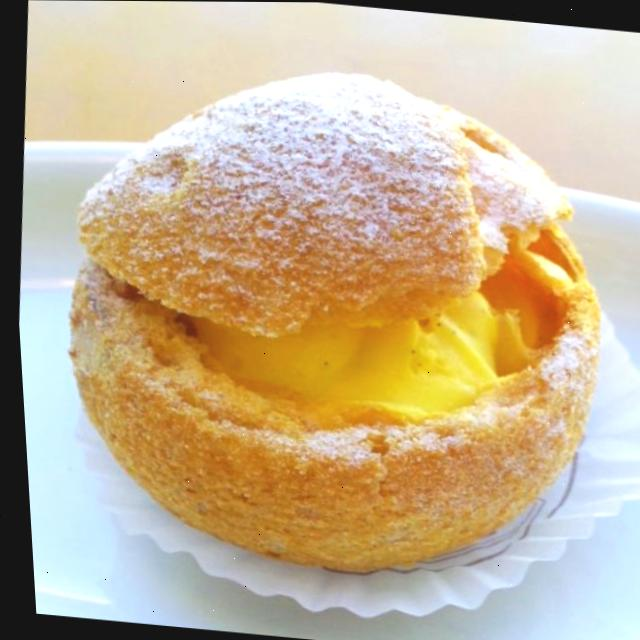炸货点心: (5, 29, 640, 626)
蛋糕甜品: (5, 29, 640, 626)
